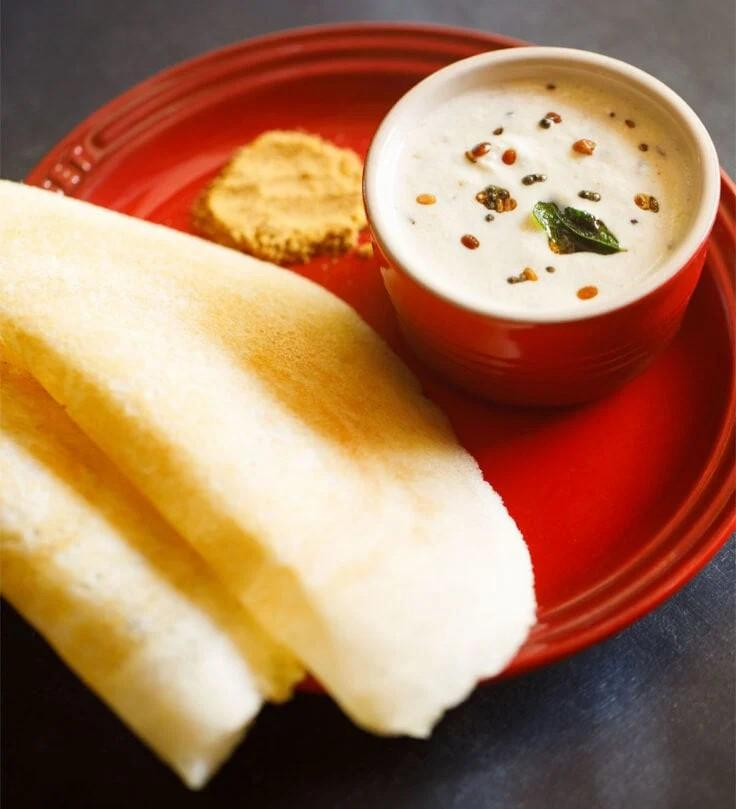CoconutChutney: (387, 81, 698, 304)
